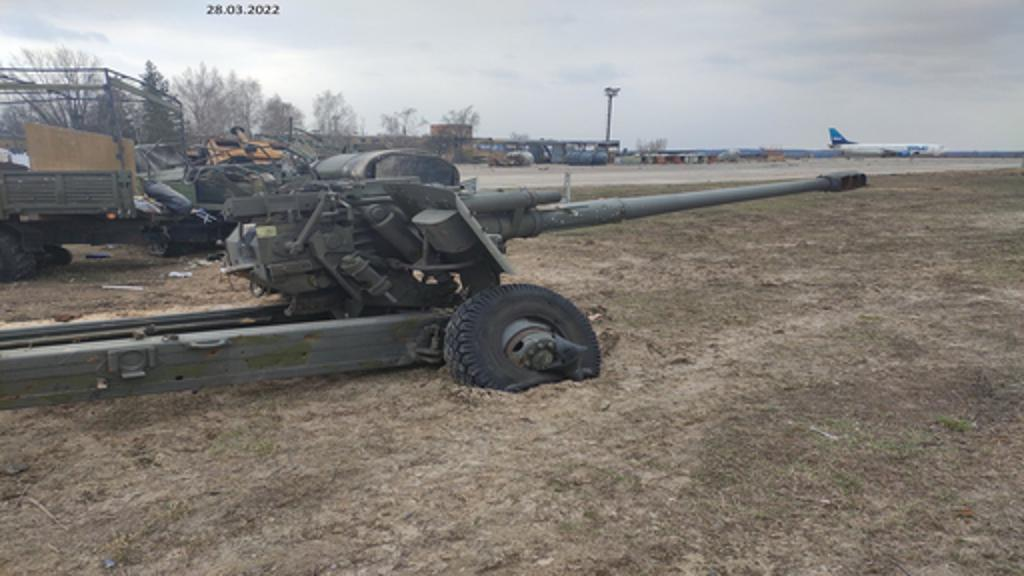ART: (0, 162, 862, 414)
